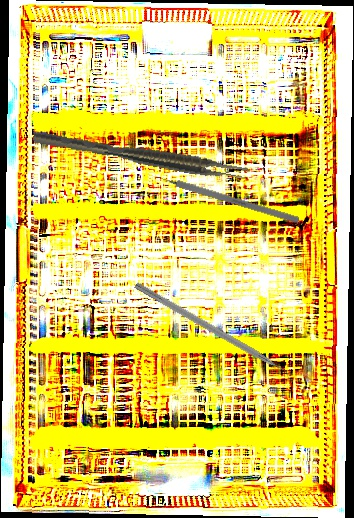Chopper: (129, 281, 299, 390)
Hook Surgical: (147, 171, 300, 224)
Tissue Forceps: (32, 124, 251, 185)
